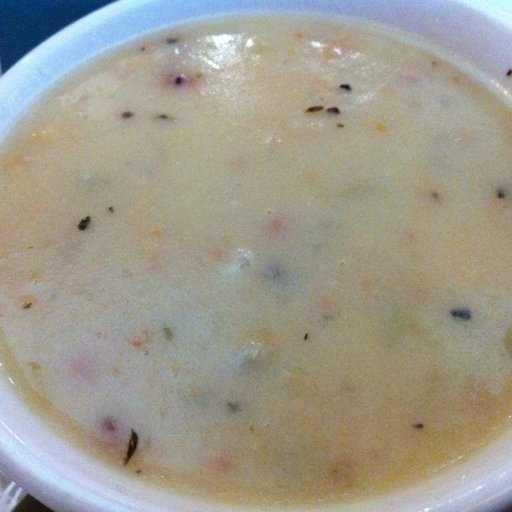soup: (4, 23, 512, 503)
